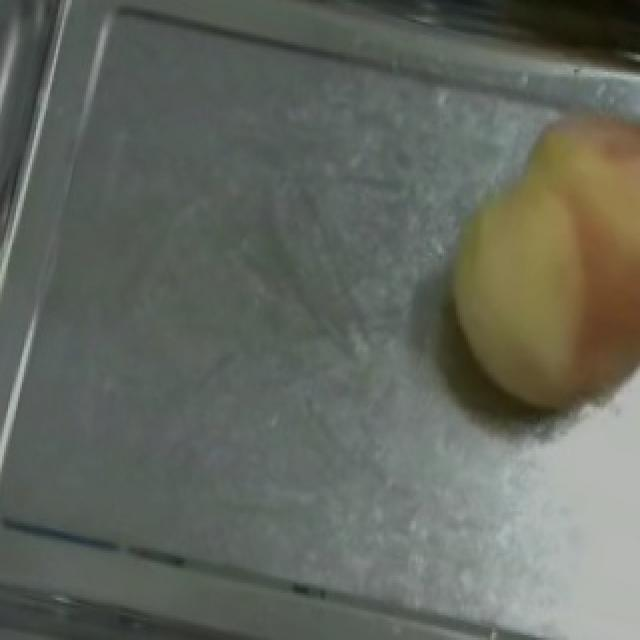Fruit: (414, 87, 640, 439)
